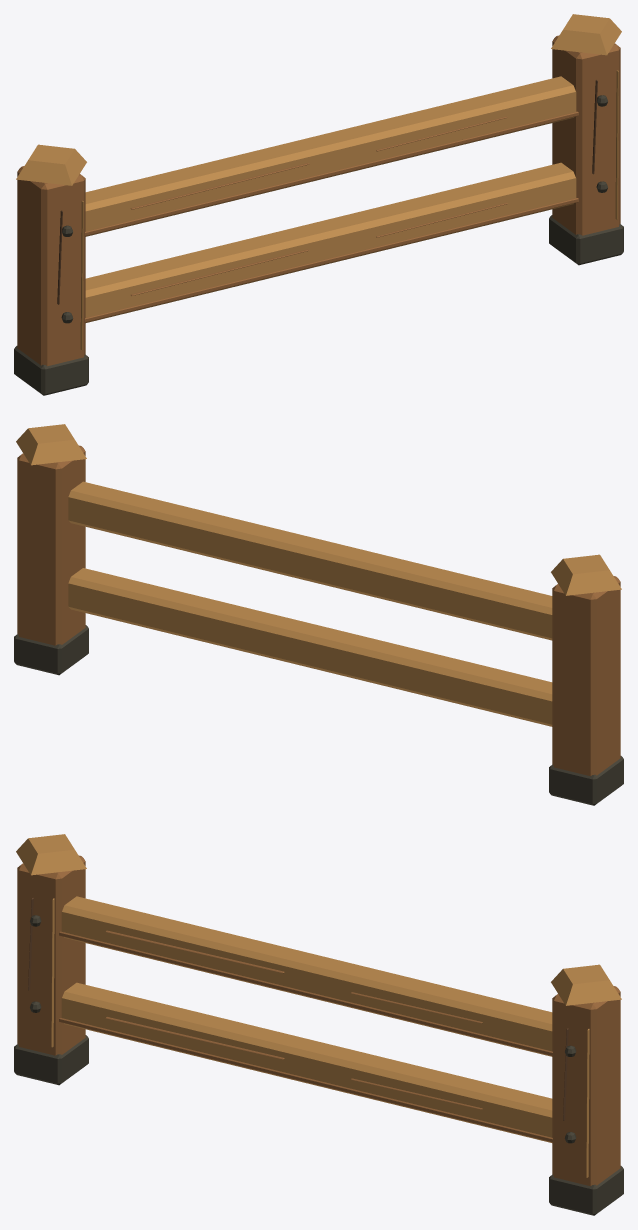
3 views of the same model, one above another, from view 1: azimuth 30°, elevation 25°; view 2: azimuth 150°, elevation 25°; view 3: azimuth 330°, elevation 25° (orthographic).
Parts seen in each view (by area): view 1: Overlapping warm rail, Overlapping warm rail.001, Square hewn post, Square hewn post.001, Drawn lower rail edge, Drawn lower rail edge.001, Quiet iron foot.001, Quiet iron foot, Chamfered post cap, Chamfered post cap.001; view 2: Overlapping warm rail.001, Overlapping warm rail, Square hewn post, Square hewn post.001, Quiet iron foot.001, Quiet iron foot, Chamfered post cap, Chamfered post cap.001; view 3: Overlapping warm rail, Overlapping warm rail.001, Square hewn post.001, Square hewn post, Drawn lower rail edge, Drawn lower rail edge.001, Quiet iron foot, Quiet iron foot.001, Chamfered post cap.001, Chamfered post cap.
Boxes of the visible parts, left/top/right/bottom form: Overlapping warm rail: left=85, top=162, right=576, bottom=322; Overlapping warm rail.001: left=85, top=76, right=576, bottom=236; Square hewn post: left=17, top=166, right=85, bottom=366; Square hewn post.001: left=552, top=35, right=620, bottom=235; Drawn lower rail edge: left=85, top=198, right=578, bottom=322; Drawn lower rail edge.001: left=85, top=111, right=578, bottom=235; Quiet iron foot.001: left=549, top=215, right=623, bottom=265; Quiet iron foot: left=14, top=346, right=88, bottom=395; Chamfered post cap: left=16, top=144, right=86, bottom=185; Chamfered post cap.001: left=551, top=14, right=621, bottom=55; Overlapping warm rail.001: left=68, top=481, right=552, bottom=640; Overlapping warm rail: left=68, top=568, right=552, bottom=726; Square hewn post: left=552, top=576, right=620, bottom=776; Square hewn post.001: left=17, top=445, right=85, bottom=645; Quiet iron foot.001: left=14, top=625, right=88, bottom=675; Quiet iron foot: left=549, top=756, right=623, bottom=805; Chamfered post cap: left=551, top=554, right=621, bottom=595; Chamfered post cap.001: left=16, top=424, right=86, bottom=465; Overlapping warm rail: left=61, top=982, right=552, bottom=1142; Overlapping warm rail.001: left=61, top=896, right=552, bottom=1056; Square hewn post.001: left=552, top=986, right=620, bottom=1186; Square hewn post: left=17, top=855, right=85, bottom=1055; Drawn lower rail edge: left=59, top=1018, right=552, bottom=1142; Drawn lower rail edge.001: left=59, top=931, right=552, bottom=1055; Quiet iron foot: left=14, top=1035, right=88, bottom=1085; Quiet iron foot.001: left=549, top=1166, right=623, bottom=1215; Chamfered post cap.001: left=551, top=964, right=621, bottom=1005; Chamfered post cap: left=16, top=834, right=86, bottom=875.
Bounding box in the file's own units: 2.72 × 0.97 × 0.32.
